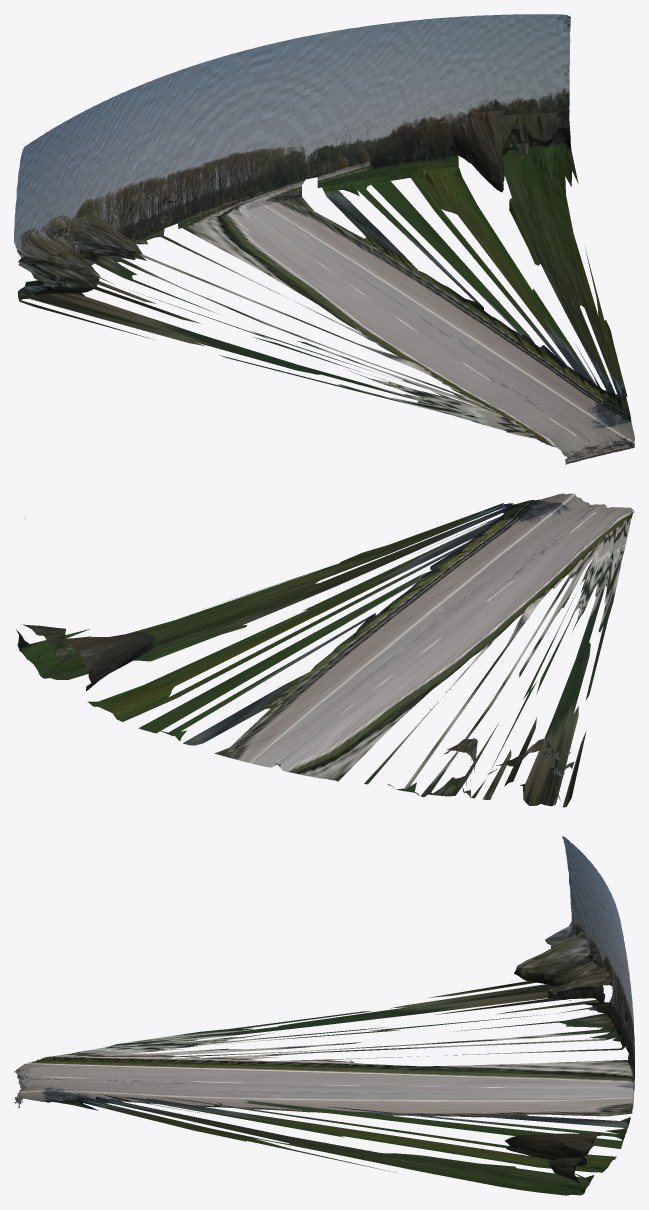
The picture shows the model from 3 angles, top to bottom: view 1: azimuth 30°, elevation 25°; view 2: azimuth 150°, elevation 25°; view 3: azimuth 270°, elevation 25°; orthographic projection. The views are drawn at different scales.
Visible parts, largest first — view 1: defaultobject; view 2: defaultobject; view 3: defaultobject.
Part boxes in pixels (x1,y1,x2,y2): defaultobject: [14, 14, 634, 464]; defaultobject: [16, 493, 634, 807]; defaultobject: [14, 836, 634, 1195].
Bounding box in the file's own units: 41.11 × 12 × 44.32.
1 material, 1 textured.
